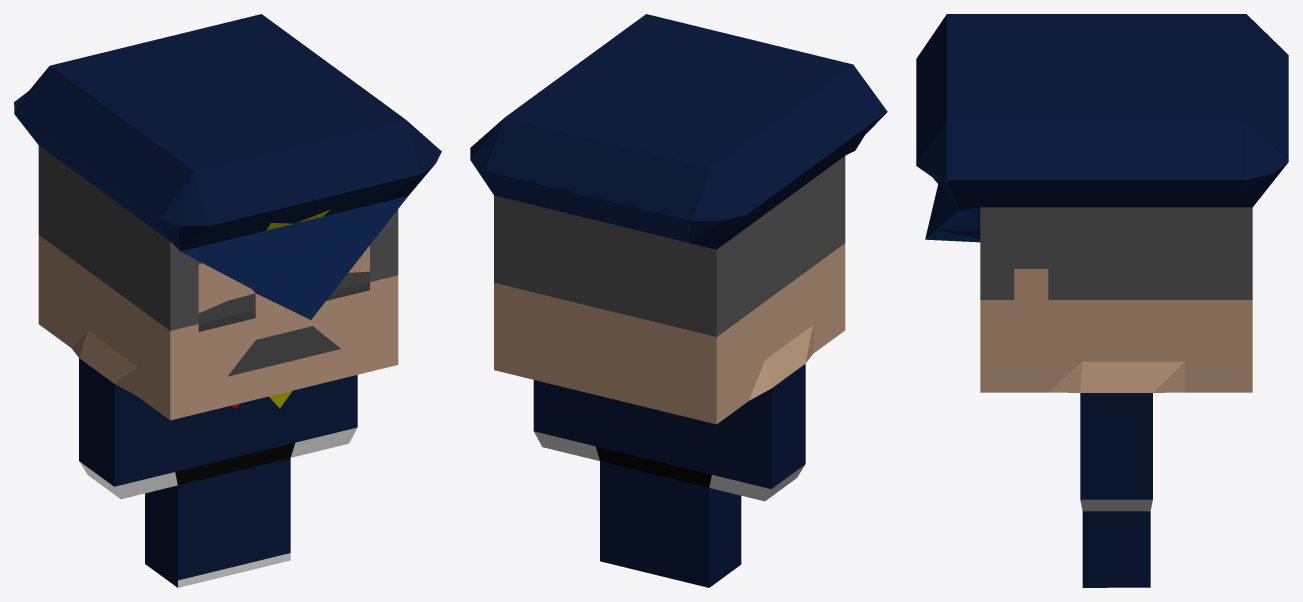
File: pilot.fbx
The picture shows the model from 3 angles, left to right: view 1: azimuth 30°, elevation 25°; view 2: azimuth 150°, elevation 25°; view 3: azimuth 270°, elevation 25°; orthographic projection. The views are drawn at different scales.
Parts seen in each view (by area): view 1: pilot; view 2: pilot; view 3: pilot.
Boxes of the visible parts, x1=… form: pilot: x1=14, y1=14, x2=441, y2=587; pilot: x1=470, y1=14, x2=887, y2=587; pilot: x1=916, y1=14, x2=1288, y2=587.
Size of the model in its own units: 1.24 by 1.99 by 1.37.
